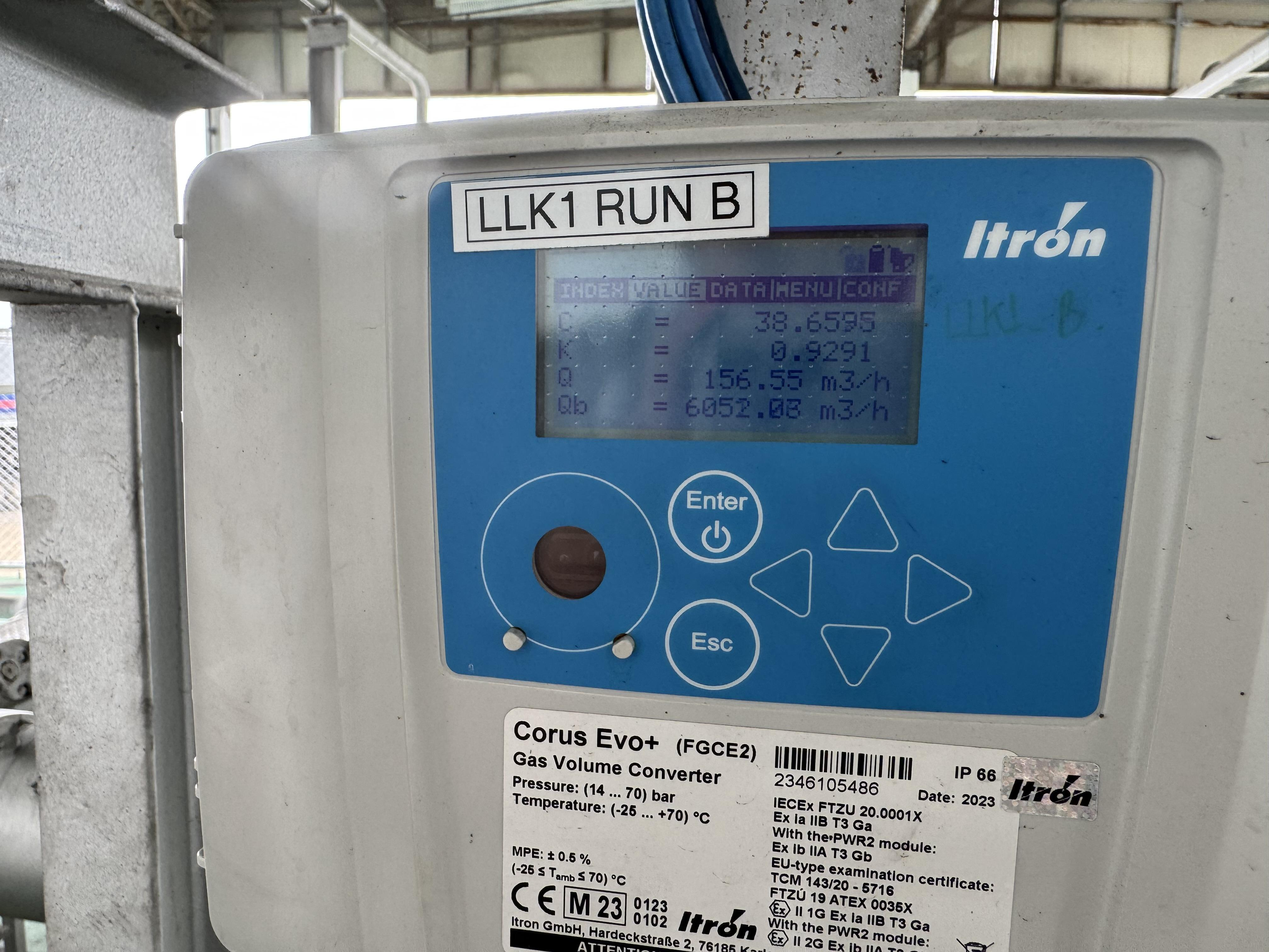digital_screen: (530, 216, 926, 445)
